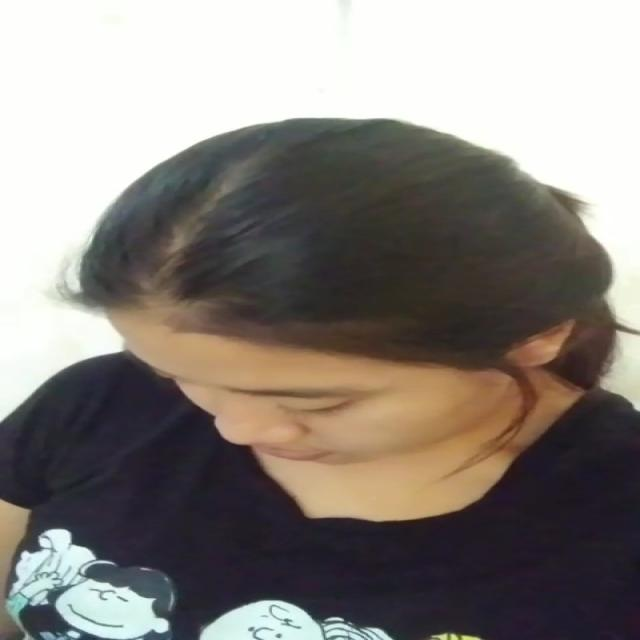9_cabeza_baja: (78, 118, 613, 466)
